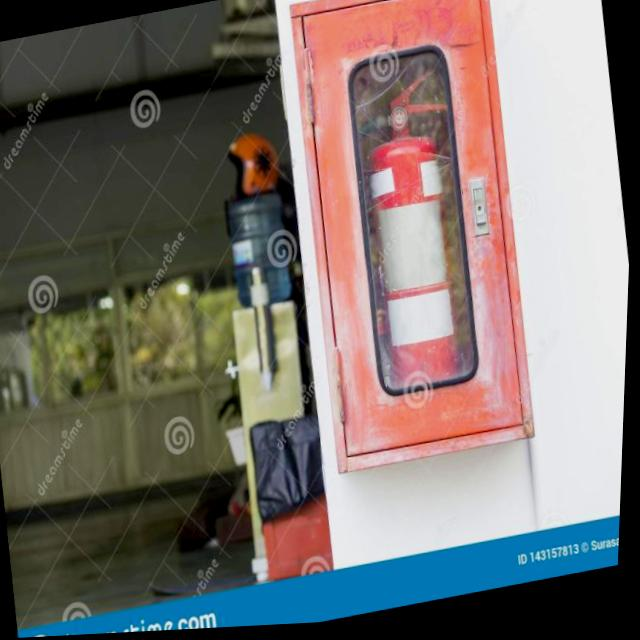FireExtinguisher: (331, 63, 498, 413)
